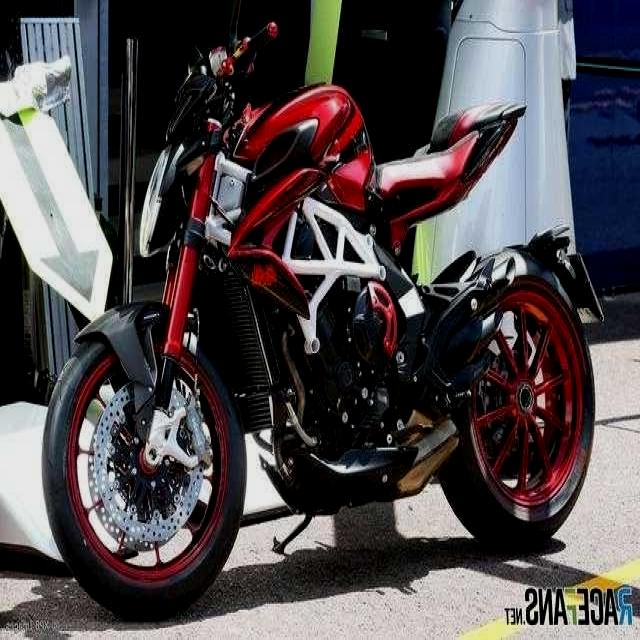Cycle: (40, 6, 611, 620)
